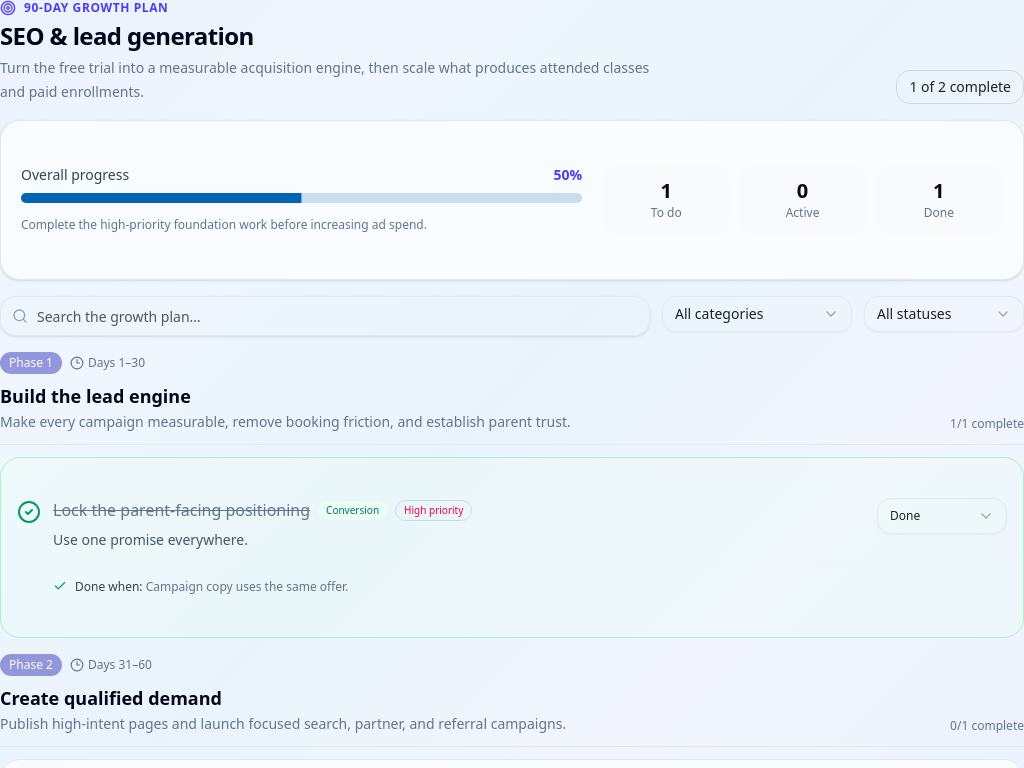
SeoCampaignChecklist › shows shared completion progress and filters tasks by search
Expected: the text "1 of 2 complete" is shown, 896,70 -> 1023,104
Expected: the heading "Lock the parent-facing positioning" is shown, 53,498 -> 310,522
Type "sitemap" into the field with placeholder "Search the growth plan…". click: (325, 316)
box: 0,296 -> 650,336
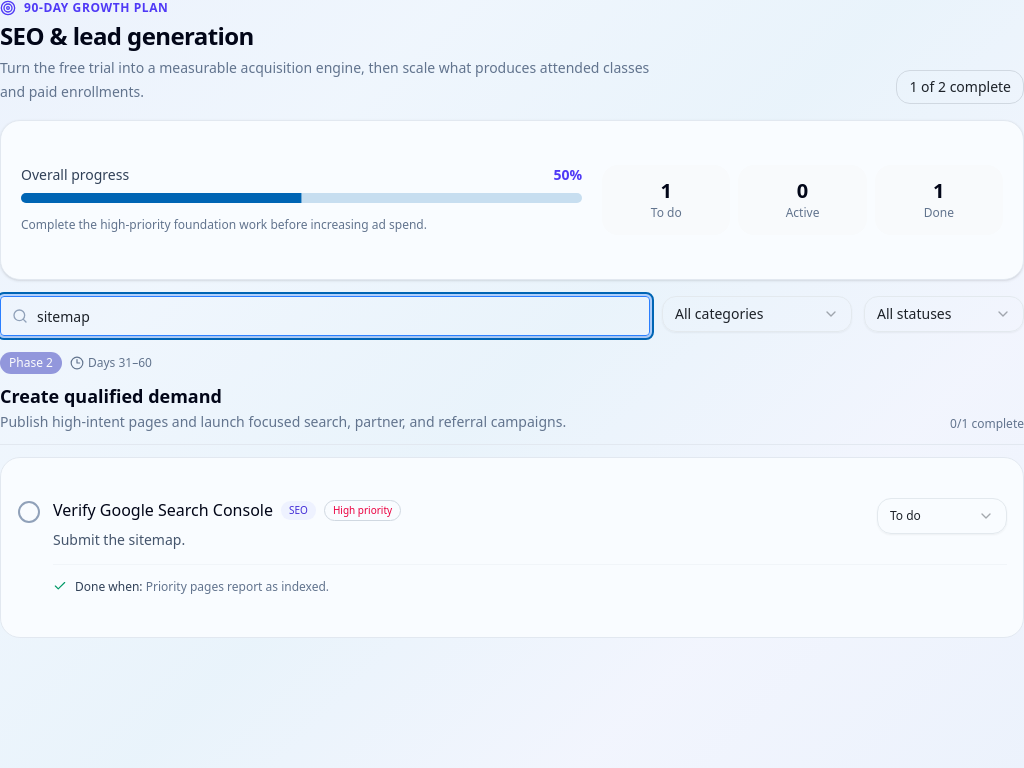
Expected: the heading "Verify Google Search Console" is shown, 53,498 -> 273,522
Expected: the heading "Lock the parent-facing positioning" is gone
